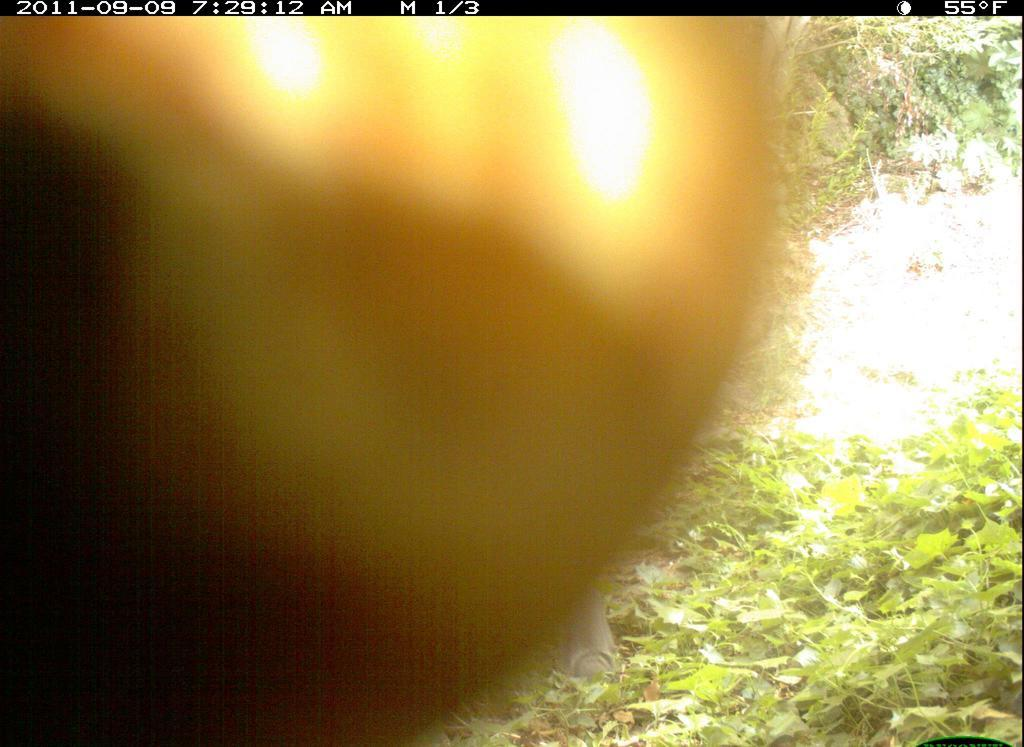squirrel: (11, 18, 824, 745)
